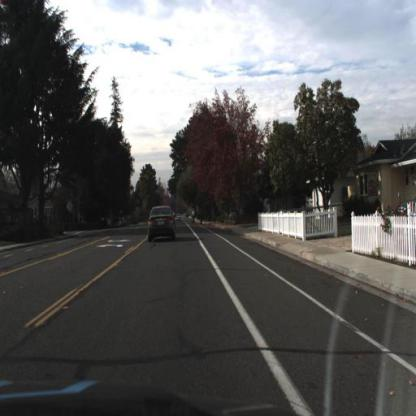biker: (200, 211, 204, 226), (193, 212, 197, 226)
car: (149, 206, 177, 241)
